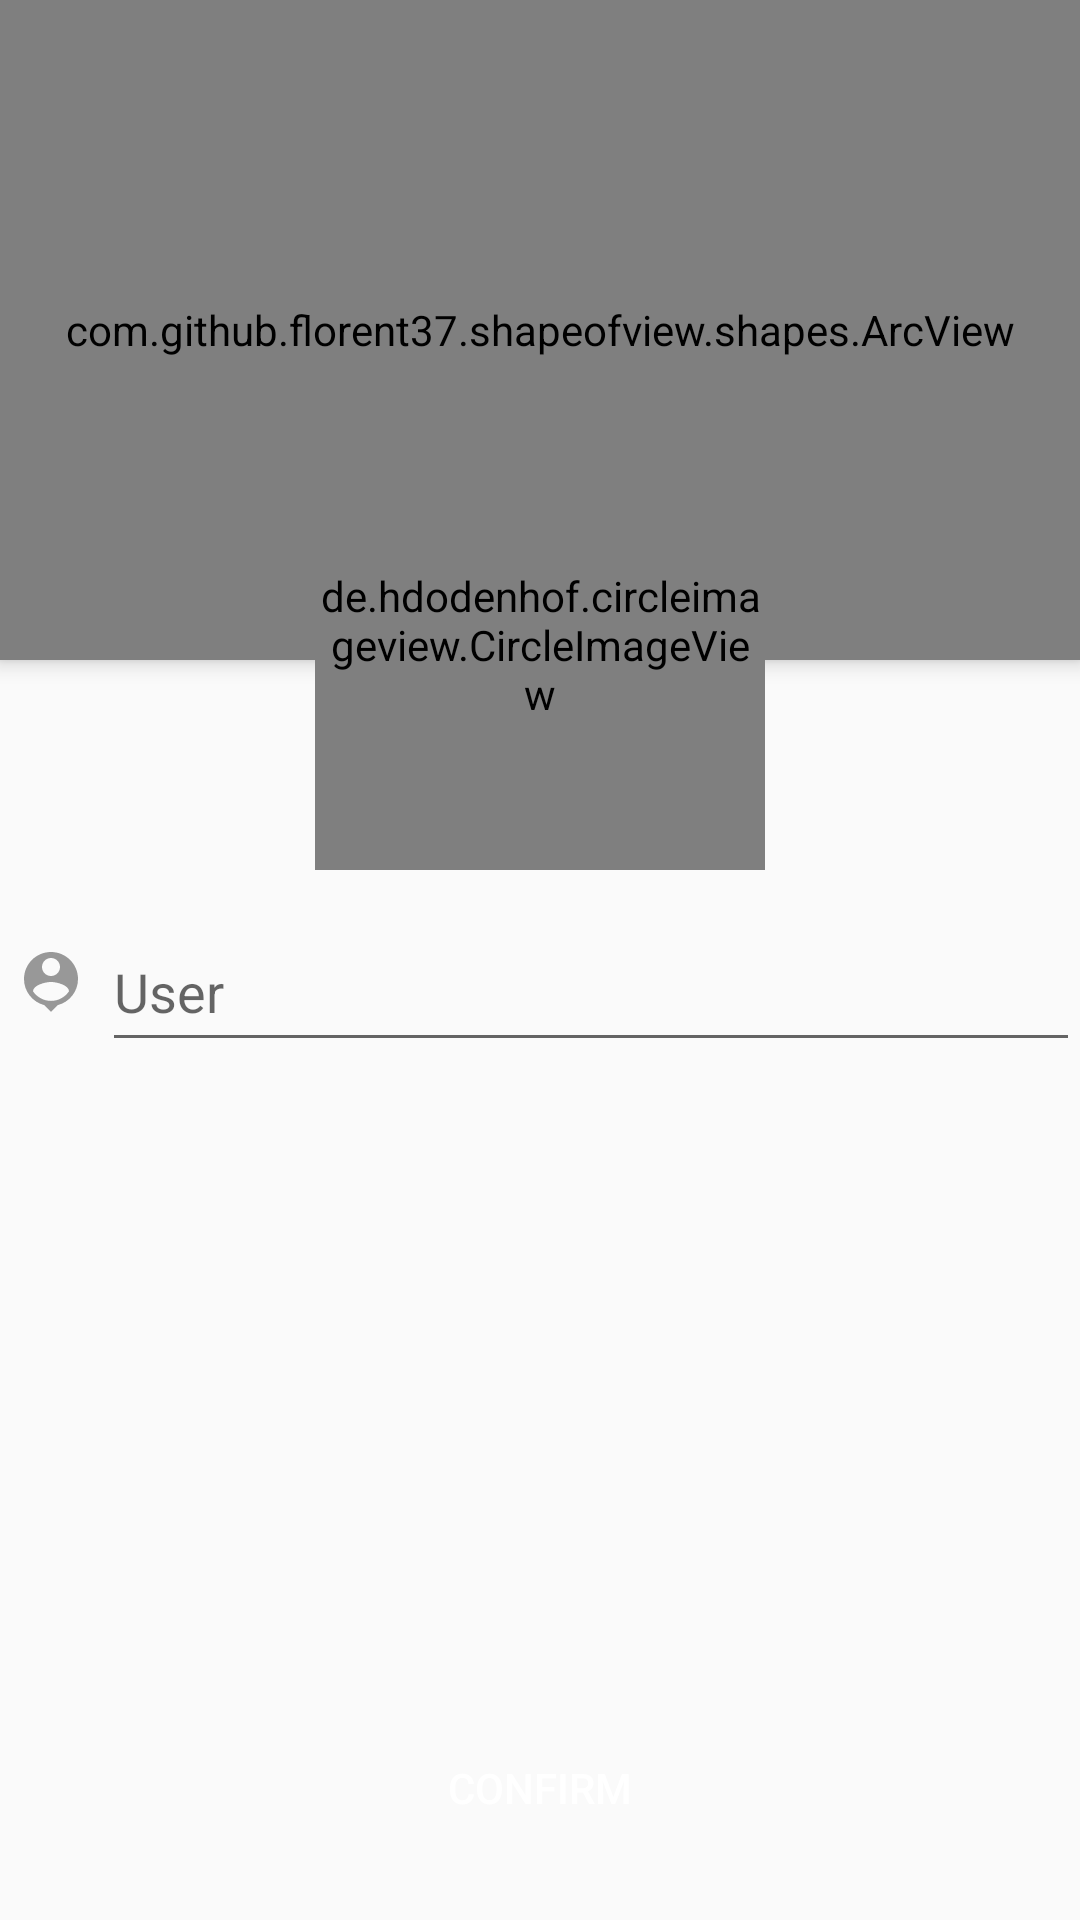

Icon click points for this 1080×1920 phone screenshot, format point (x, y):
person: point (51, 982)
